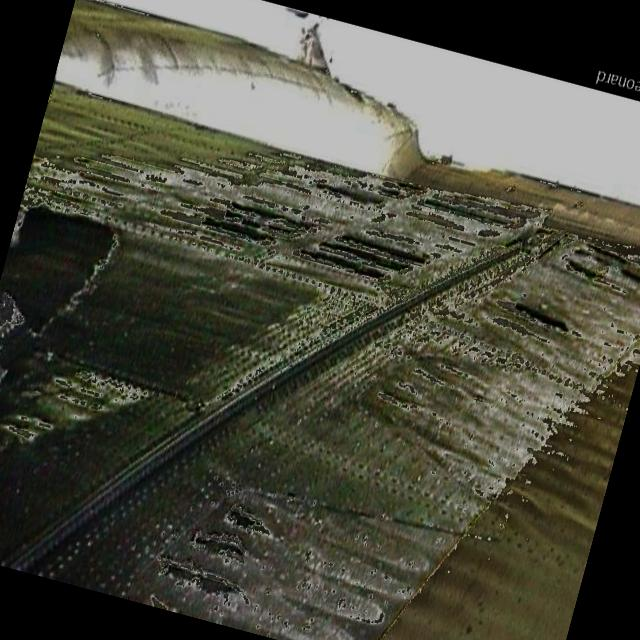crack: (146, 483, 287, 627)
